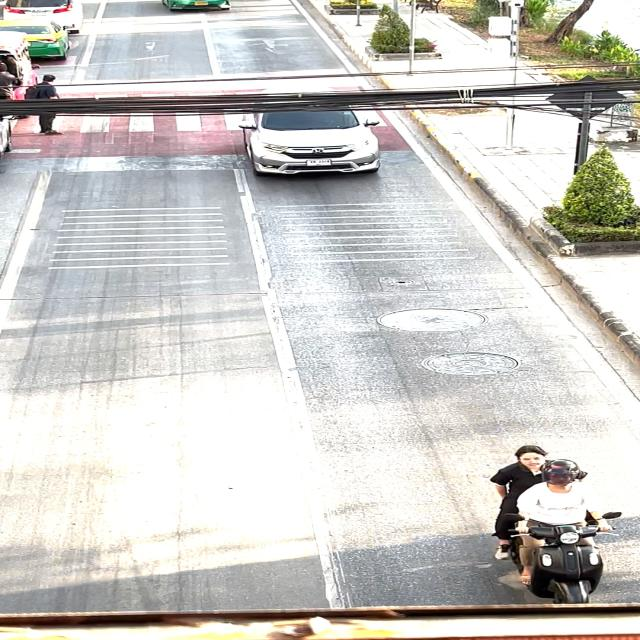car: (229, 80, 402, 180)
